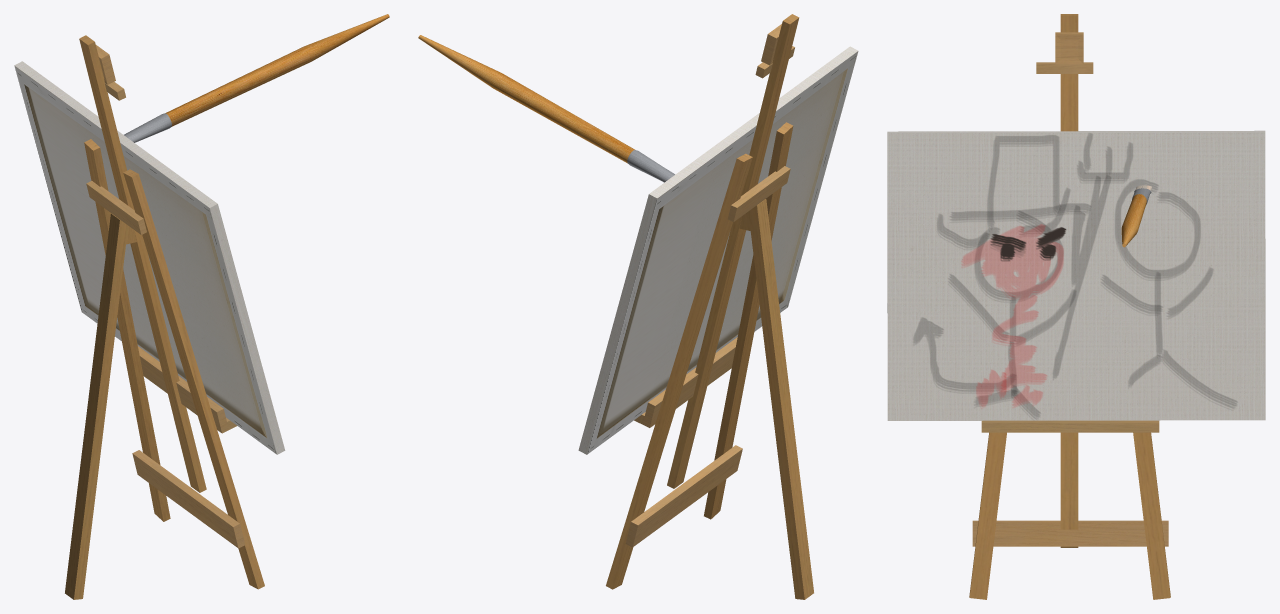
The model's file is staffelei.fbx.
3 renders of one model, left to right at view 1: azimuth 30°, elevation 25°; view 2: azimuth 150°, elevation 25°; view 3: azimuth 270°, elevation 25°, orthographic. The views are drawn at different scales.
Parts seen in each view (by area): view 1: pCube11, pinsel_94940:pCylinder1; view 2: pCube11, pinsel_94940:pCylinder1; view 3: pCube11, pinsel_94940:pCylinder1.
Part boxes in pixels (x1,y1,x2,y2): pCube11: (14,35,285,599); pinsel_94940:pCylinder1: (124,14,389,142); pCube11: (578,14,858,599); pinsel_94940:pCylinder1: (418,35,674,182); pCube11: (887,14,1265,599); pinsel_94940:pCylinder1: (1121,185,1152,247).
Size of the model in its own units: 15.63 by 23.79 by 15.17.
